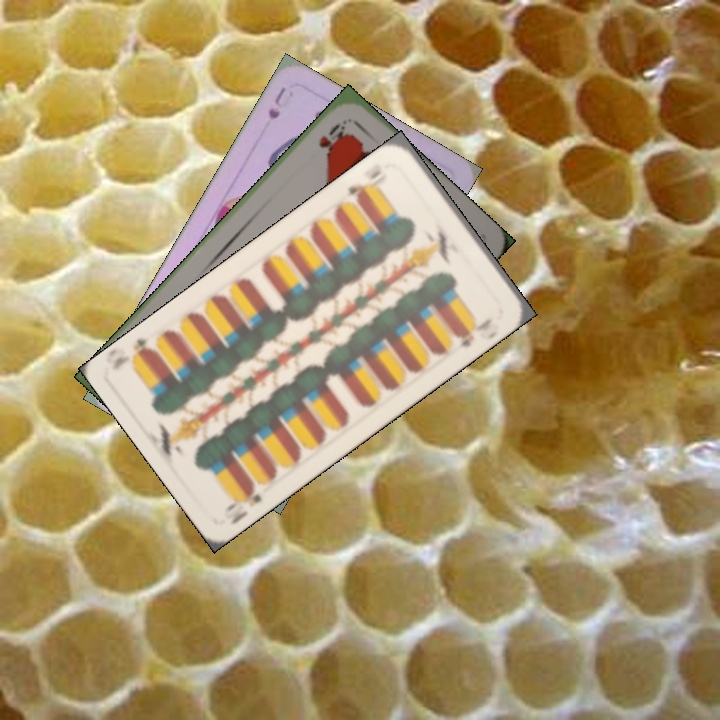E10: (220, 479, 265, 528), (343, 166, 390, 205)
HO: (314, 116, 350, 158)
SU: (264, 82, 291, 122)
